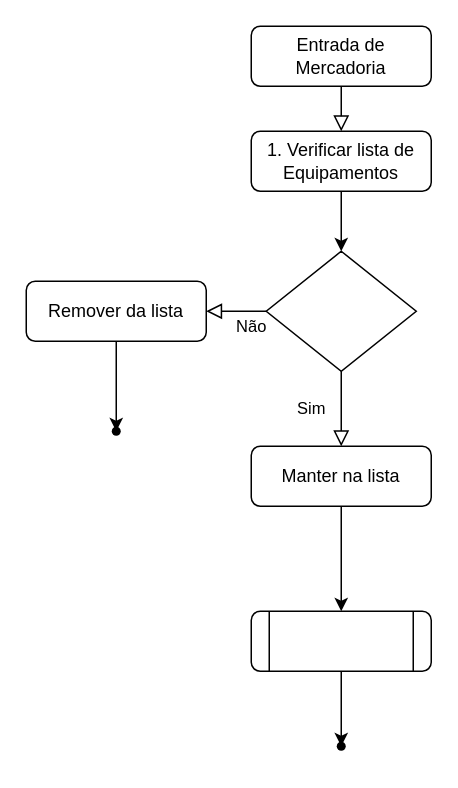
Image size: 458x788. Some labels were removed from this diagram. Here are the shapes that lost their labels. From the top down, the box of each, then its label:
(265, 250, 416, 371): Dados consistentes?
(250, 610, 431, 671): Processar dados inconsistentes
